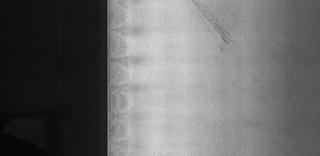water spot: (184, 2, 244, 58)
